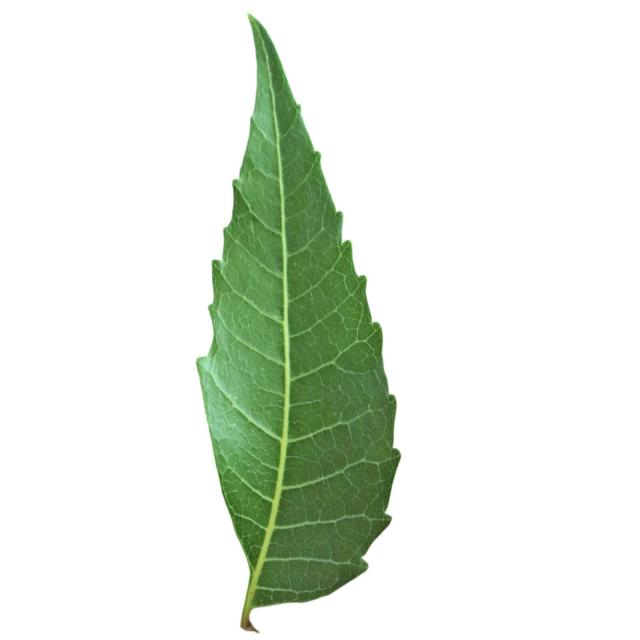Medicinal-Neem: (194, 12, 402, 631)
